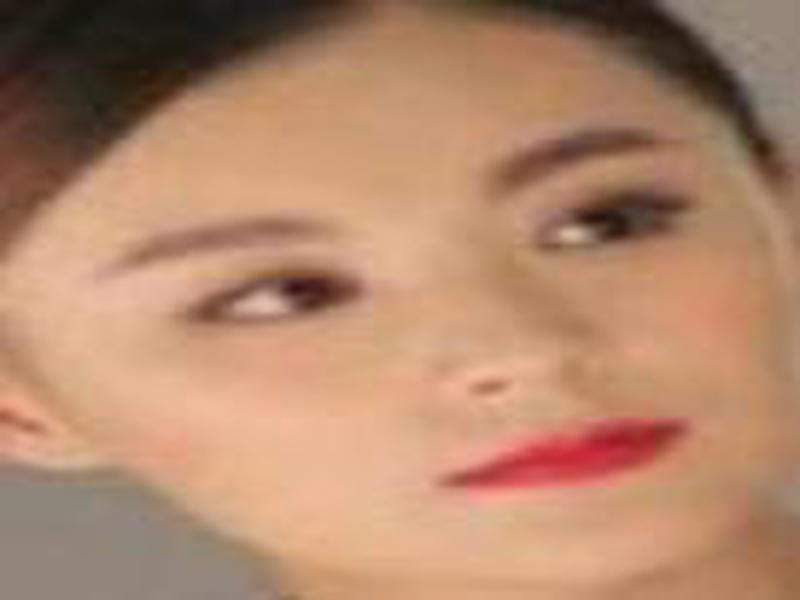without_mask: (53, 74, 766, 574)
